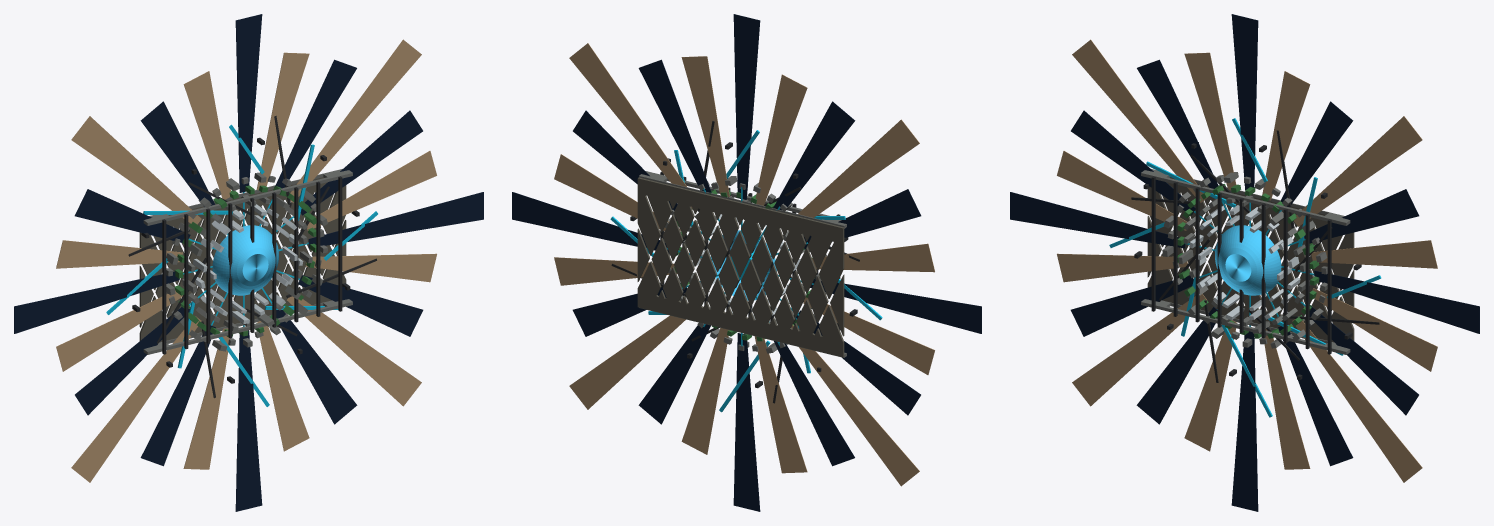
File: dream_machine_level.obj
The picture shows the model from 3 angles, left to right: view 1: azimuth 30°, elevation 25°; view 2: azimuth 150°, elevation 25°; view 3: azimuth 330°, elevation 25°; orthographic projection.
Parts seen in each view (by area): view 1: dream_machine_level; view 2: dream_machine_level; view 3: dream_machine_level.
Boxes of the visible parts, bbox=[...] form: dream_machine_level: bbox=[14, 14, 483, 511]; dream_machine_level: bbox=[512, 14, 981, 511]; dream_machine_level: bbox=[1010, 14, 1479, 511].
Bounding box in the file's own units: 160 × 160 × 8.4.
